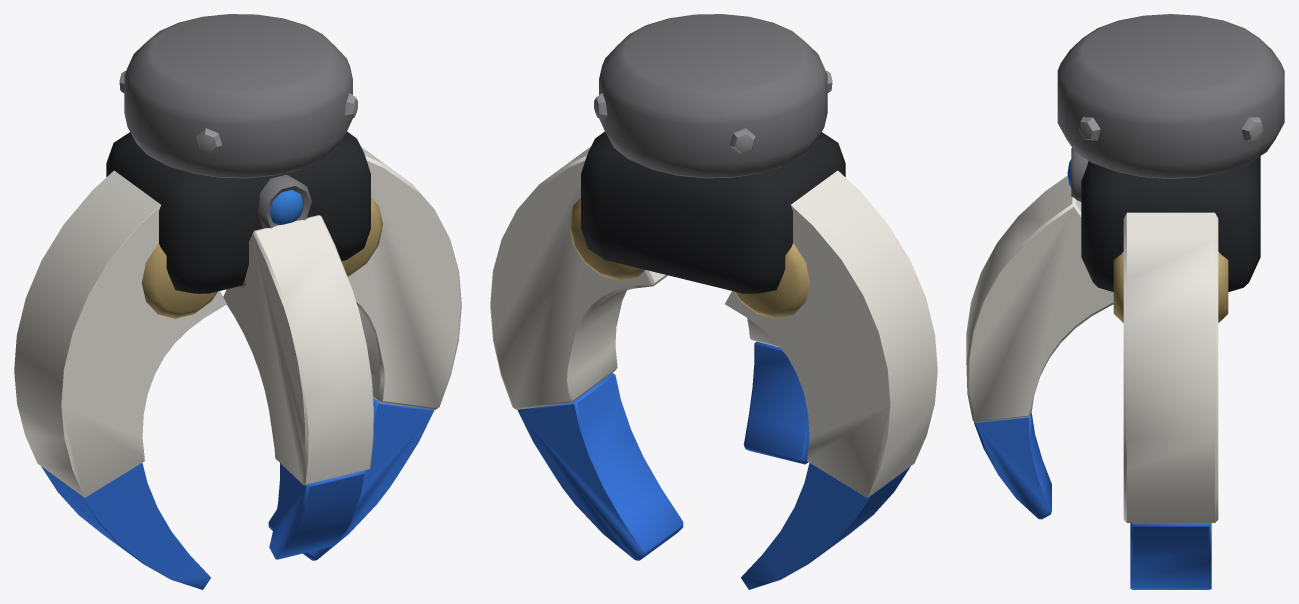
File: Kit_Hand_ProClaw.glb
3 views of the same model, side by side, from view 1: azimuth 30°, elevation 25°; view 2: azimuth 150°, elevation 25°; view 3: azimuth 270°, elevation 25° (orthographic).
Parts seen in each view (by area): view 1: Kit_Hand_ProClaw; view 2: Kit_Hand_ProClaw; view 3: Kit_Hand_ProClaw.
Boxes of the visible parts, x1,y1,x2,y2 form: Kit_Hand_ProClaw: (14, 14, 461, 589); Kit_Hand_ProClaw: (490, 14, 937, 589); Kit_Hand_ProClaw: (966, 14, 1284, 589).
Bounding box in the file's own units: 0.1867 × 0.2262 × 0.1276.
